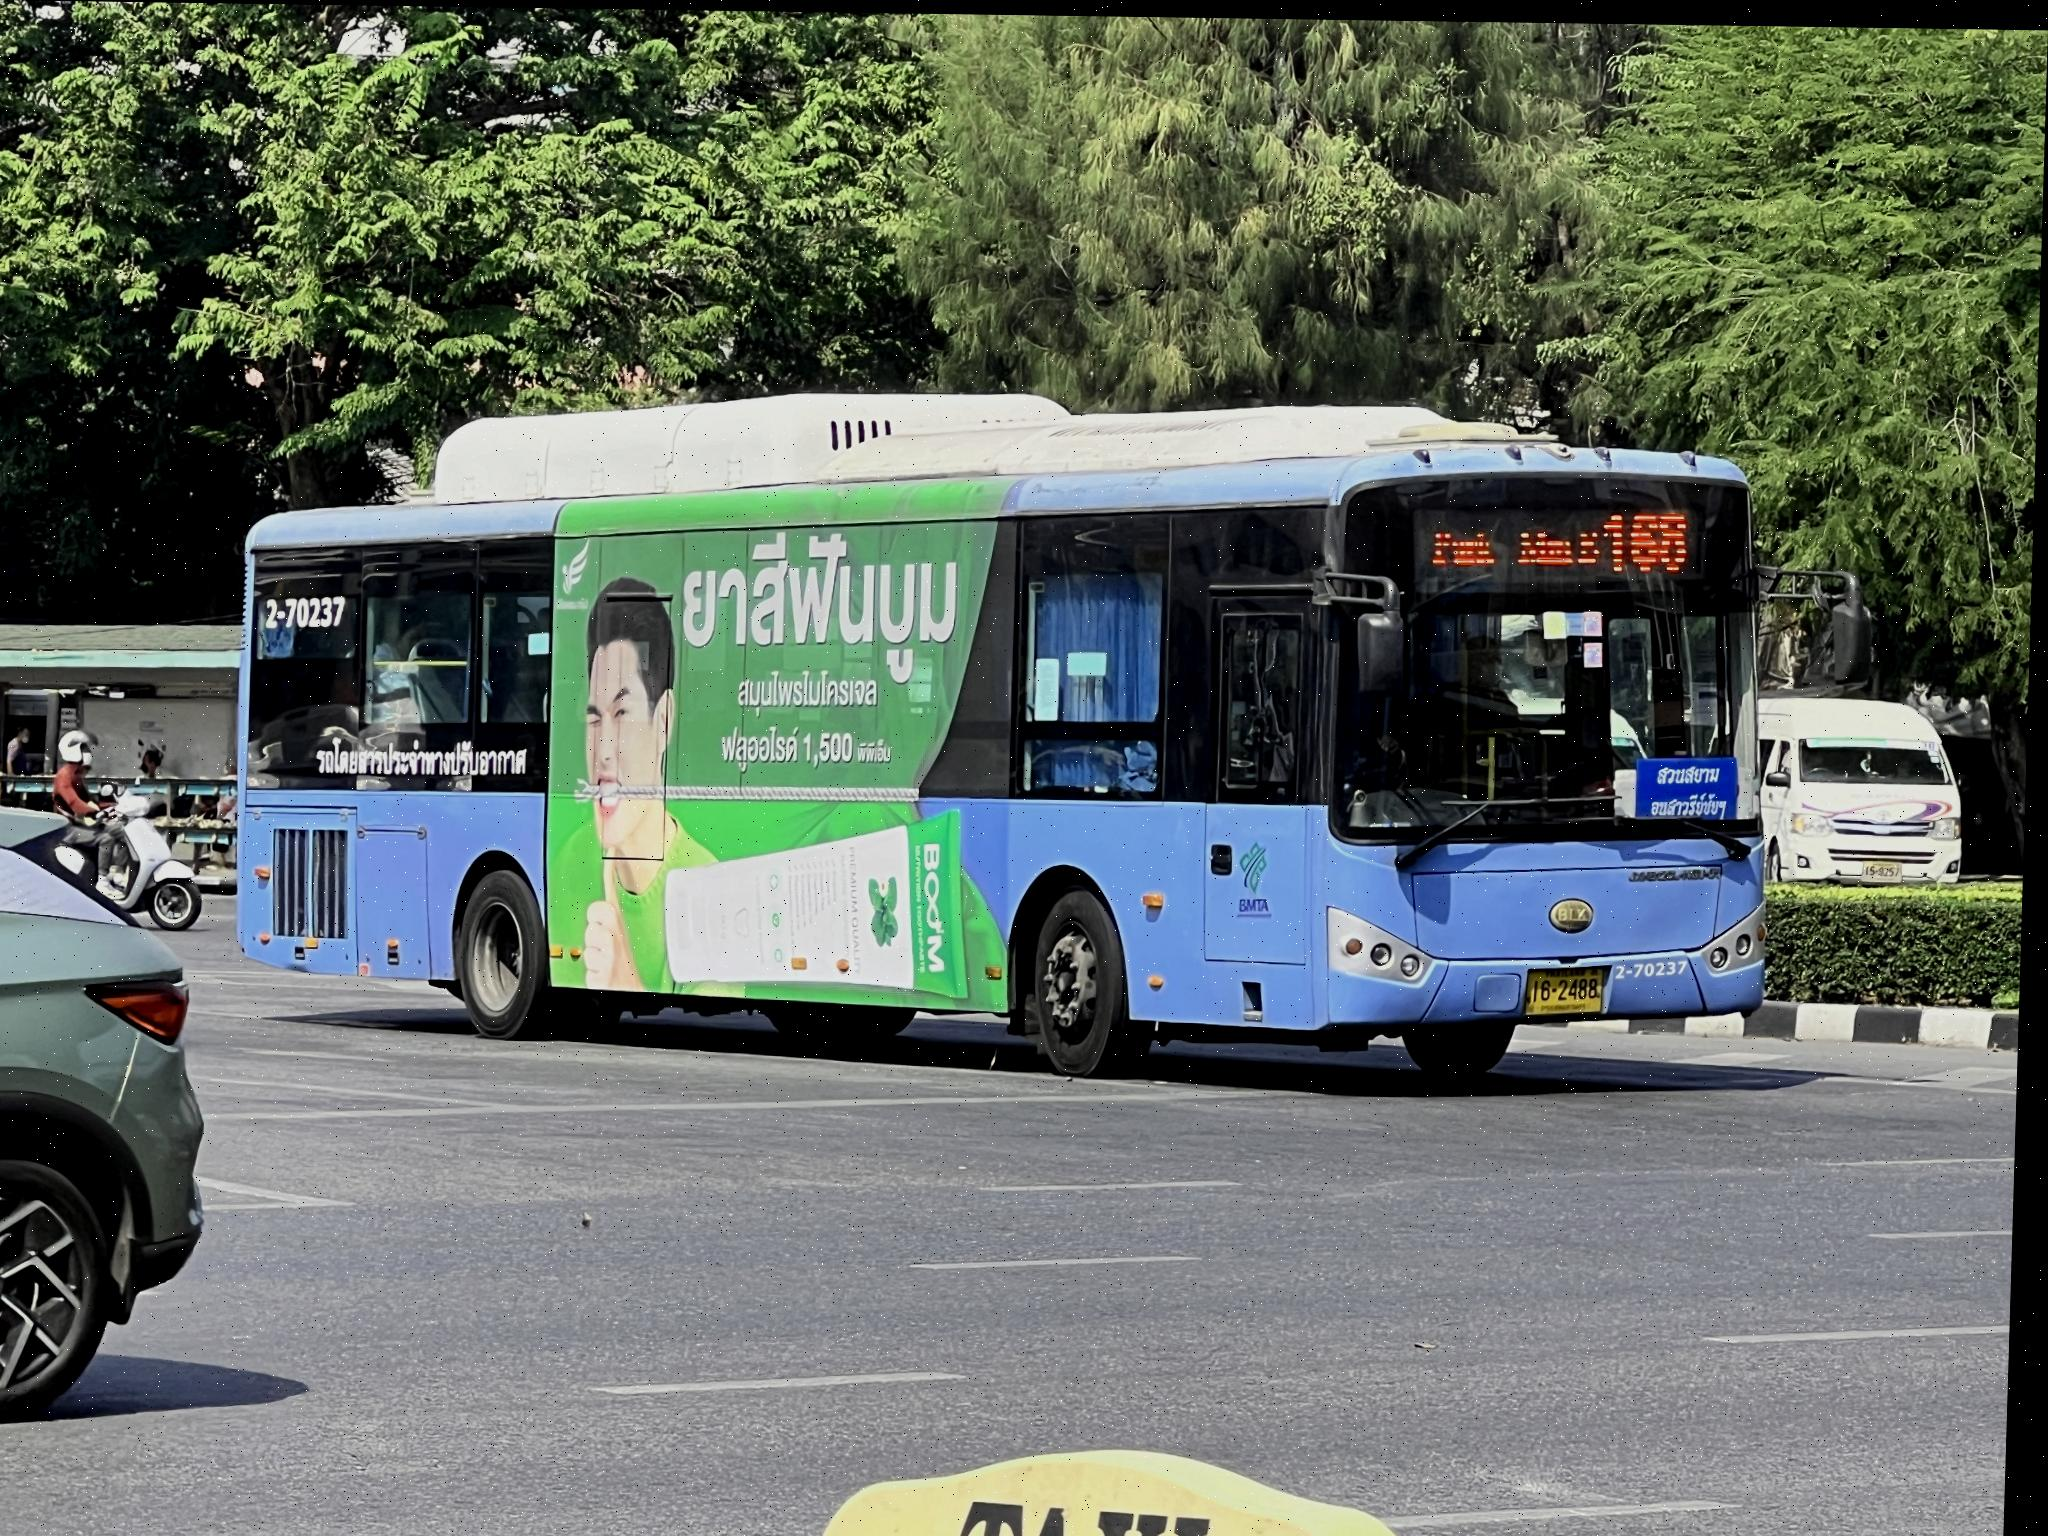BMTA-bus: (232, 392, 1780, 1083)
Bus Line Number: (1601, 495, 1701, 573)
Bus Side Number: (253, 579, 363, 647), (1606, 950, 1706, 981)
Destination Sign: (1635, 747, 1745, 808)
